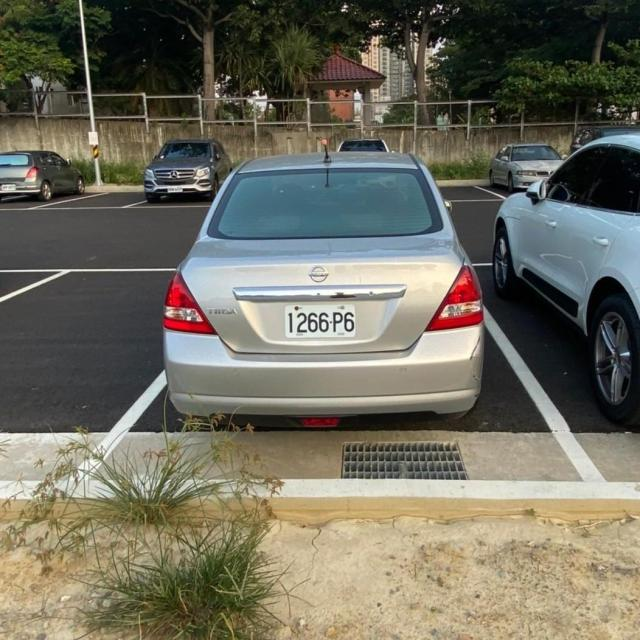W: (282, 302, 359, 340)
